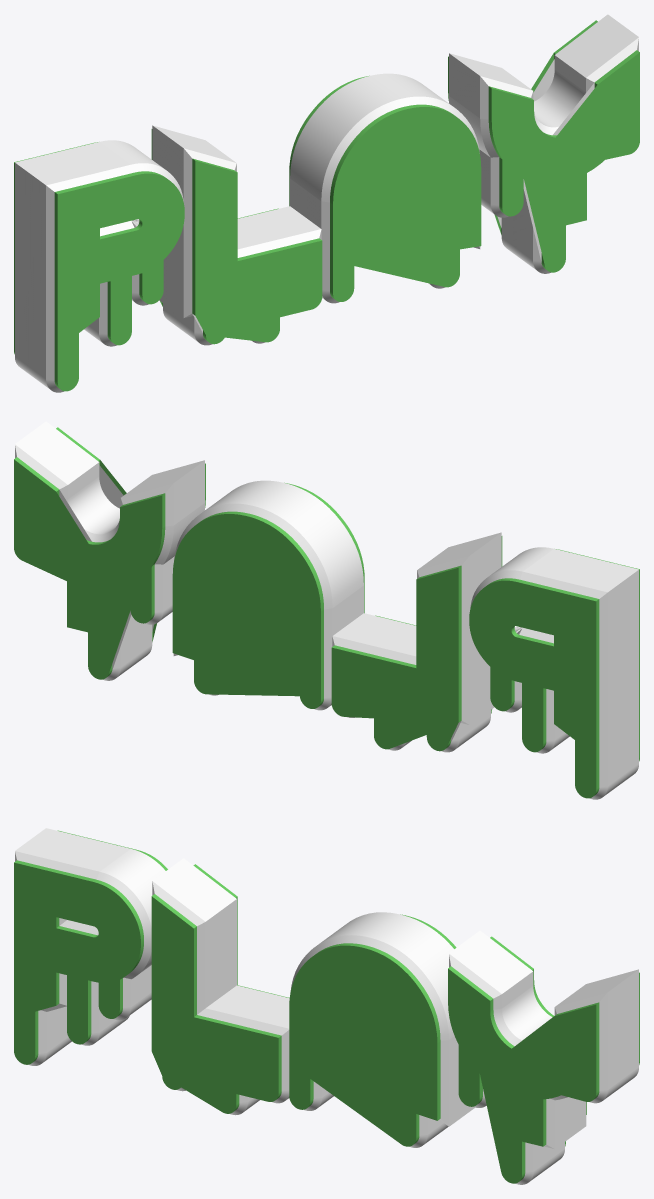
Rendered from Play.fbx.
3 views of the same model, one above another, from view 1: azimuth 30°, elevation 25°; view 2: azimuth 150°, elevation 25°; view 3: azimuth 330°, elevation 25° (orthographic).
Parts seen in each view (by area): view 1: Cap_1_7, Cap_1_5, Cap_1_8, Cap_1_6, P, y, a, l, Rounding_1, Rounding_1_2, Rounding_1_3, Rounding_1_4 (+5 smaller); view 2: Cap_2_7, Cap_2_5, Cap_2_8, Cap_2_6, P, y, a, l, Rounding_2, Rounding_2_2, Rounding_2_4, Rounding_2_3 (+4 smaller); view 3: Cap_1_7, Cap_1_5, Cap_1_8, Cap_1_6, y, l, P, a, Rounding_1, Rounding_1_4, Rounding_1_3, Rounding_1_2 (+4 smaller).
Part boxes in pixels (box(x1,y1,x2,y2)): Cap_1_7: box(333, 107, 481, 301); Cap_1_5: box(57, 173, 184, 391); Cap_1_8: box(491, 52, 639, 272); Cap_1_6: box(195, 161, 322, 344); P: box(15, 140, 163, 389); y: box(449, 14, 638, 270); a: box(290, 73, 451, 299); l: box(152, 125, 320, 341); Rounding_1: box(46, 163, 183, 392); Rounding_1_2: box(183, 148, 321, 345); Rounding_1_3: box(321, 96, 480, 303); Rounding_1_4: box(480, 37, 638, 273); Cap_2_7: box(172, 514, 320, 708); Cap_2_5: box(469, 580, 596, 798); Cap_2_8: box(14, 459, 162, 679); Cap_2_6: box(331, 568, 458, 751); P: box(490, 547, 638, 796); y: box(15, 421, 204, 677); a: box(202, 480, 363, 706); l: box(333, 532, 501, 748); Rounding_2: box(470, 570, 607, 799); Rounding_2_2: box(332, 555, 470, 752); Rounding_2_4: box(15, 444, 173, 680); Rounding_2_3: box(173, 503, 332, 710); Cap_1_7: box(289, 945, 437, 1146); Cap_1_5: box(14, 862, 140, 1064); Cap_1_8: box(448, 969, 596, 1183); Cap_1_6: box(151, 896, 278, 1113); y: box(449, 930, 638, 1180); l: box(153, 858, 289, 1111); P: box(15, 828, 165, 1061); a: box(318, 912, 474, 1143); Rounding_1: box(15, 851, 151, 1065); Rounding_1_4: box(449, 954, 607, 1184); Rounding_1_3: box(290, 935, 448, 1147); Rounding_1_2: box(152, 881, 289, 1115).
Size of the model in its own units: 547 by 189 by 70.
